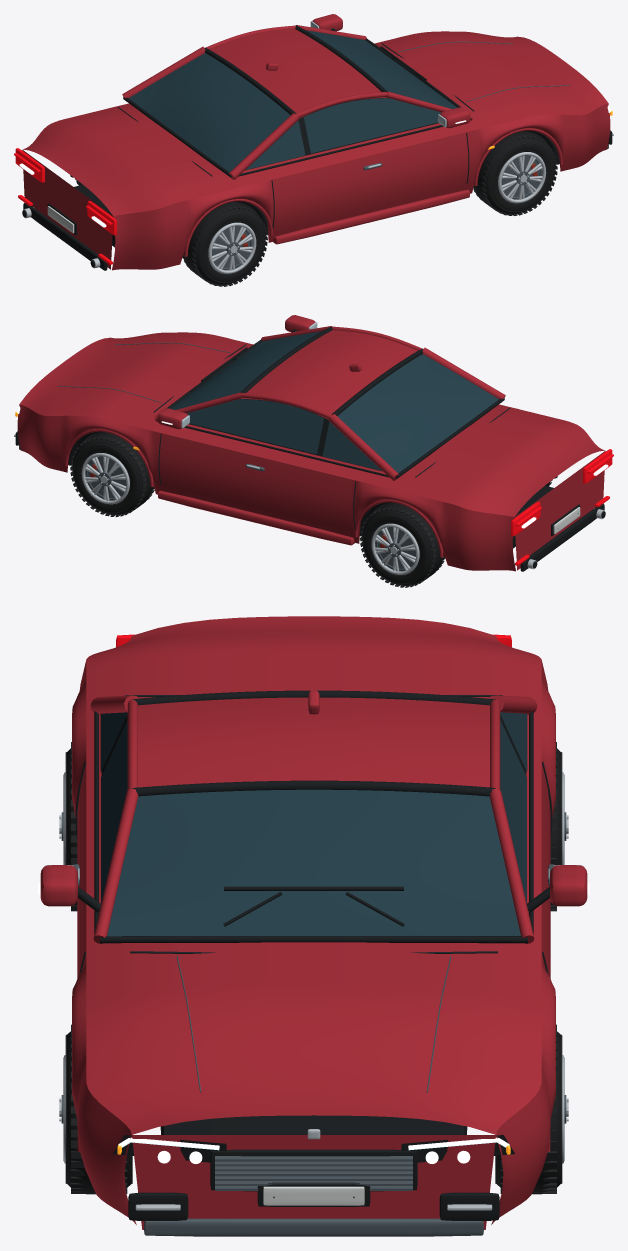
File: coupe.glb
3 renders of one model, top to bottom at view 1: azimuth 30°, elevation 25°; view 2: azimuth 150°, elevation 25°; view 3: azimuth 270°, elevation 25°, orthographic. The views are drawn at different scales.
Visible parts, largest first — view 1: Paint / body colour, Smoked automotive glass, Tyre rubber, Satin black trim, Satin aluminium, Tyre tread edges, Graphite alloy, Rear light lenses; view 2: Paint / body colour, Smoked automotive glass, Tyre rubber, Satin black trim, Satin aluminium, Tyre tread edges, Graphite alloy, Rear light lenses; view 3: Paint / body colour, Smoked automotive glass, Satin black trim, Graphite alloy, Tyre rubber, Tyre tread edges, Satin aluminium, Plain number plates, LED daylight, Panel gaps.
Boxes of the visible parts, x1,y1,x2,y2 form: Paint / body colour: (22,14,610,270); Smoked automotive glass: (128,30,457,172); Tyre rubber: (78,131,555,284); Satin black trim: (22,25,612,270); Satin aluminium: (23,133,613,273); Tyre tread edges: (75,132,557,286); Graphite alloy: (49,41,608,270); Rear light lenses: (14,148,116,264); Paint / body colour: (17,315,605,571); Smoked automotive glass: (170,331,498,473); Tyre rubber: (72,432,549,585); Satin black trim: (15,326,605,571); Satin aluminium: (14,434,604,574); Tyre tread edges: (70,433,552,587); Graphite alloy: (19,342,578,571); Rear light lenses: (511,449,613,565); Paint / body colour: (40,616,587,1229); Smoked automotive glass: (100,712,527,936); Satin black trim: (78,690,549,1220); Graphite alloy: (61,812,566,1236); Tyre rubber: (67,748,560,1194); Tyre tread edges: (65,742,562,1193); Satin aluminium: (59,772,568,1210); Plain number plates: (263,1186,364,1205); LED daylight: (38,883,589,1163); Panel gaps: (75,695,552,974).
Bounding box in the file's own units: 4.75 × 1.36 × 2.21.
